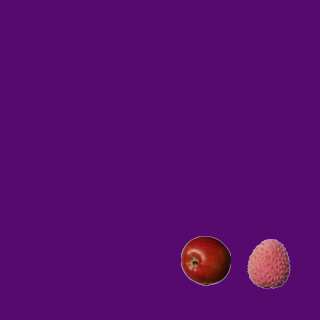Apple Braeburn: (180, 235, 230, 285)
Lychee: (243, 238, 293, 288)
